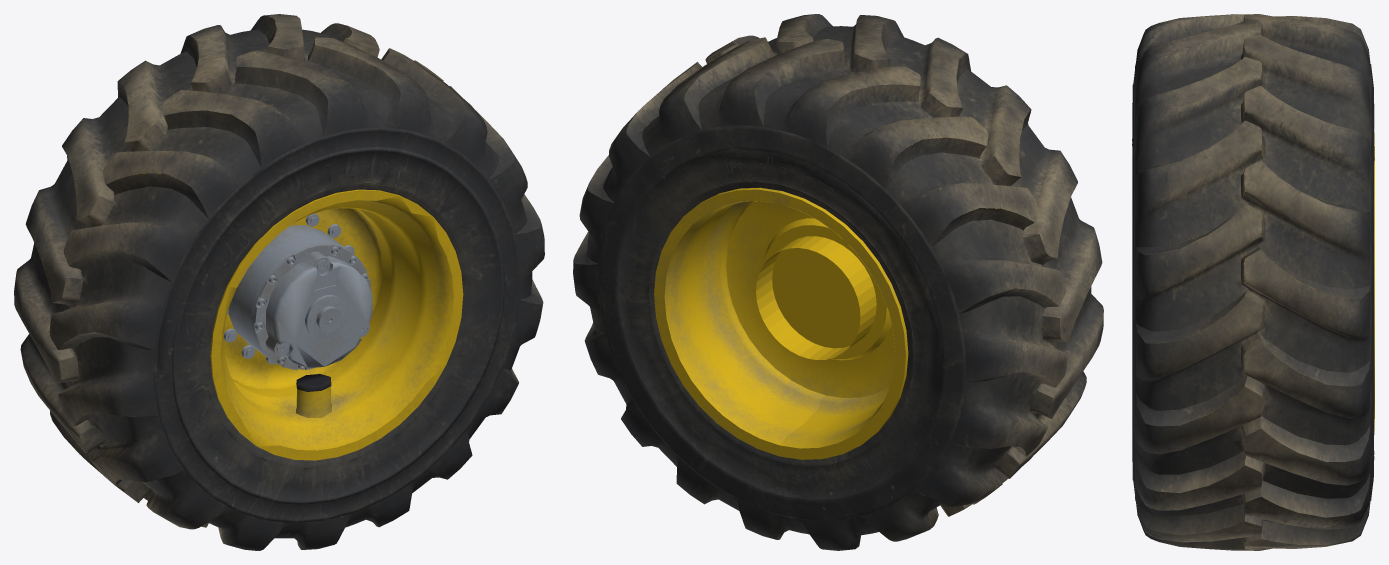
File: RF_WHEEL.dae
The picture shows the model from 3 angles, left to right: view 1: azimuth 30°, elevation 25°; view 2: azimuth 150°, elevation 25°; view 3: azimuth 270°, elevation 25°; orthographic projection. The views are drawn at different scales.
Visible parts, largest first — view 1: Mesh; view 2: Mesh; view 3: Mesh.
Part boxes in pixels (x1,y1,x2,y2): Mesh: (14, 14, 544, 550); Mesh: (573, 14, 1103, 550); Mesh: (1132, 14, 1374, 550).
Size of the model in its own units: 1.26 by 0.5684 by 1.26.
1 material, 1 textured.
